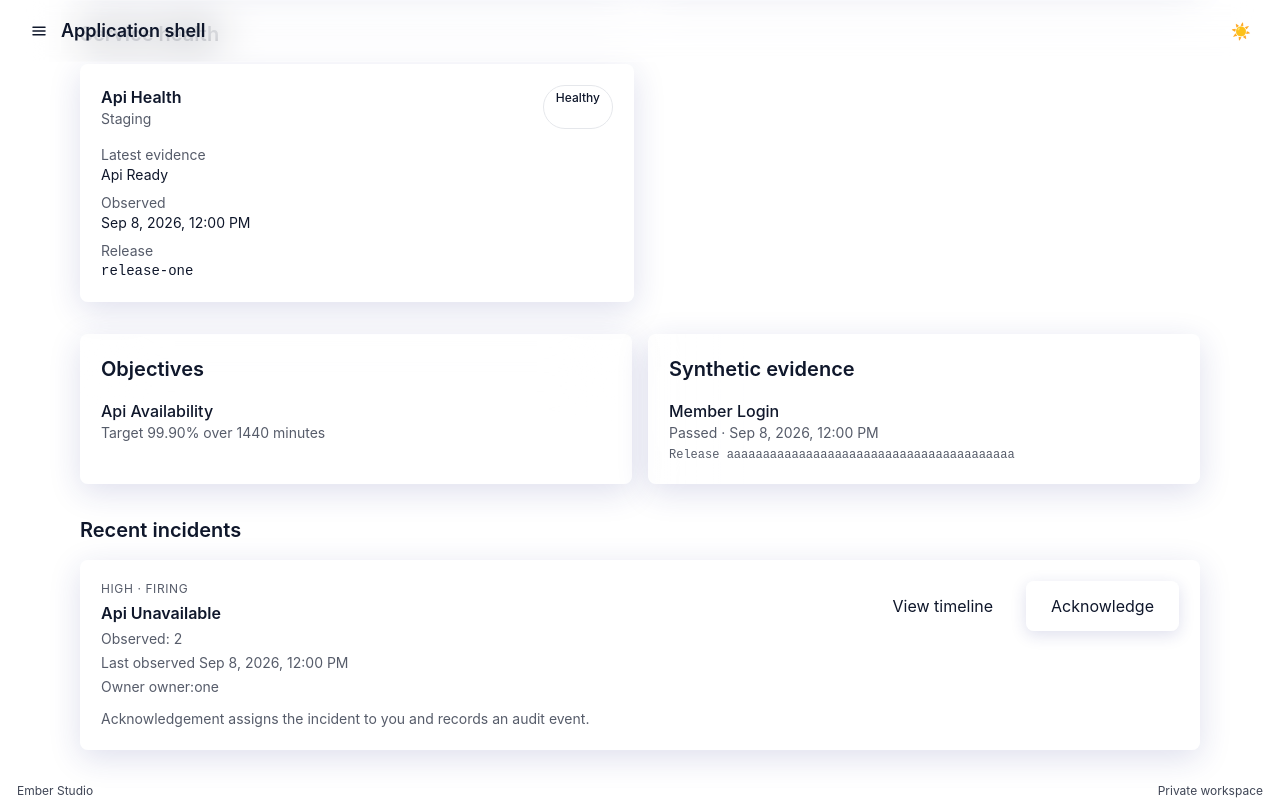
opens the tenant-bound incident timeline
The width and height of the screenshot is (1280, 800).
(page scrolled)
Click the button "View timeline" at (943, 606), box x1=868 y1=581 x2=1018 y2=631
(page scrolled)
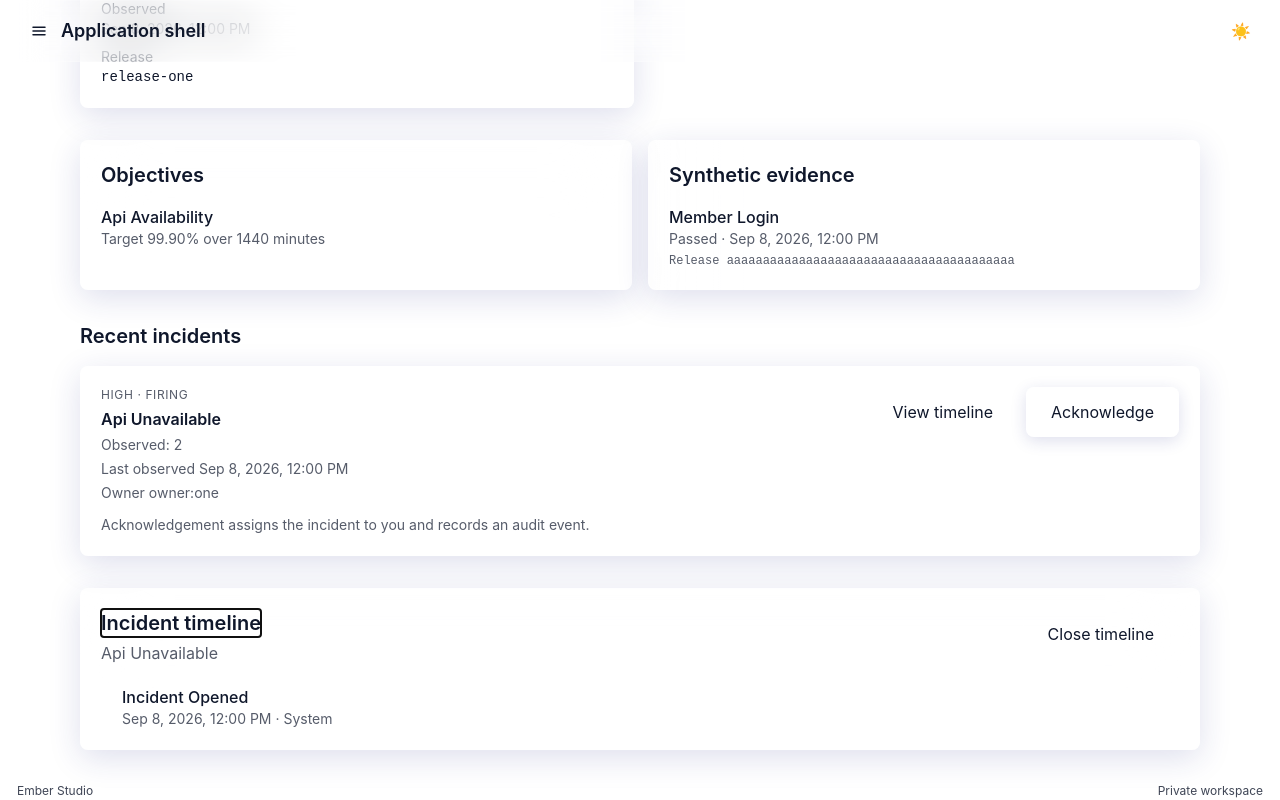
Check: the heading "Incident timeline" is shown, box x1=101 y1=609 x2=261 y2=637
Check: the text "Incident Opened" is shown, box x1=122 y1=687 x2=248 y2=707
